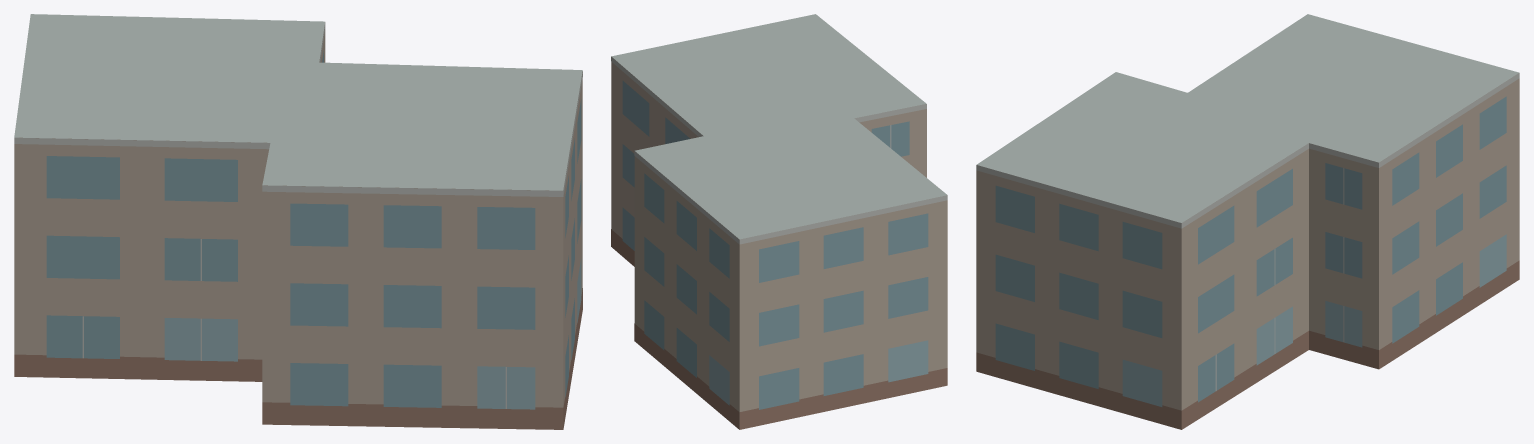
Rendered from survey-upis-32607778.glb.
The picture shows the model from 3 angles, left to right: view 1: azimuth 30°, elevation 25°; view 2: azimuth 150°, elevation 25°; view 3: azimuth 270°, elevation 25°; orthographic projection. The views are drawn at different scales.
Parts seen in each view (by area): view 1: survey-upis-32607778.tmp; view 2: survey-upis-32607778.tmp; view 3: survey-upis-32607778.tmp.
Part boxes in pixels (x1,y1,x2,y2): survey-upis-32607778.tmp: (14,14,582,429); survey-upis-32607778.tmp: (611,14,947,429); survey-upis-32607778.tmp: (976,14,1519,429).
Size of the model in its own units: 19.85 by 9.15 by 21.8.
